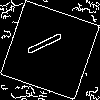I: (25, 25, 73, 58)
